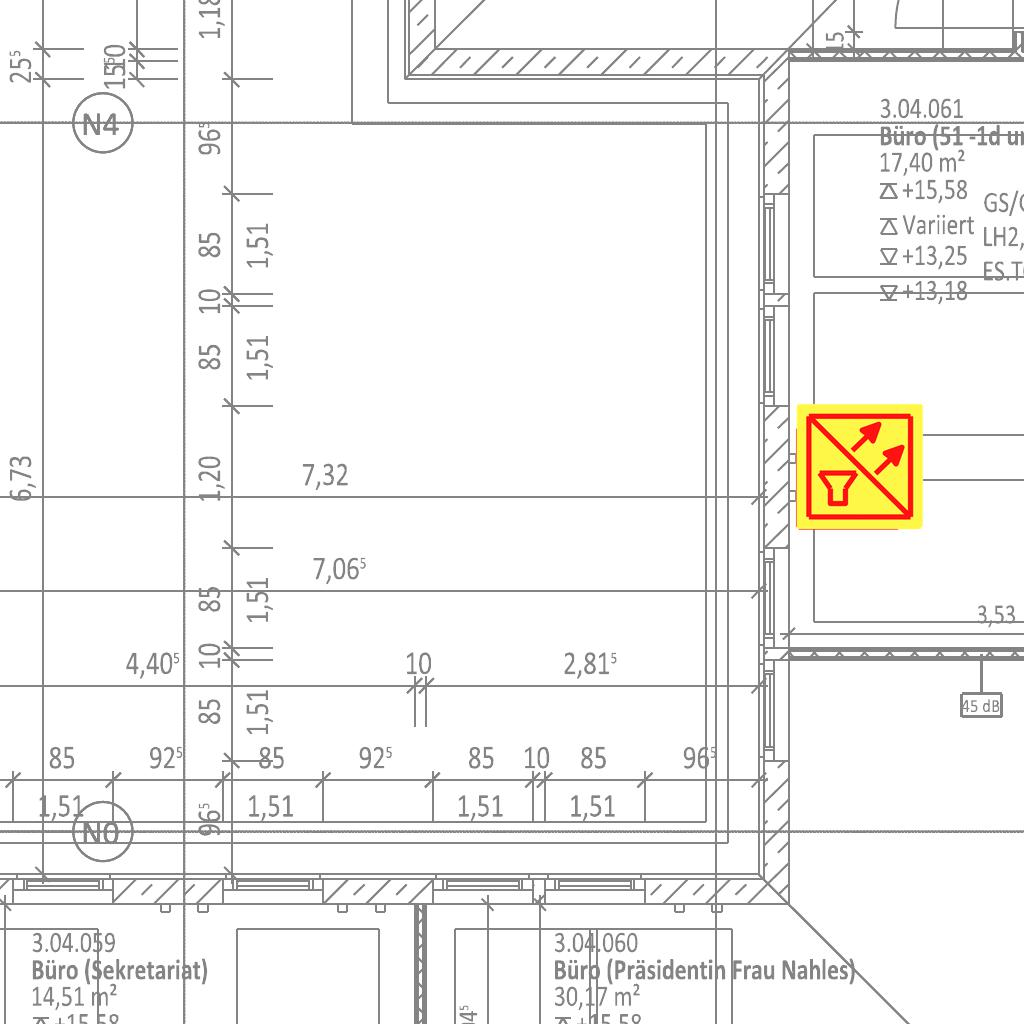OKW_Multisensormelder_(Kombination_optischer_Rauch-Kahlenmonoxid_Waerme-Melder): (794, 401, 926, 533)
